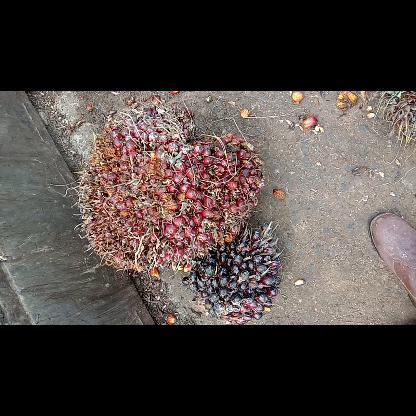TBS abnormal: (180, 223, 282, 323)
TBS masak: (70, 108, 266, 282)
